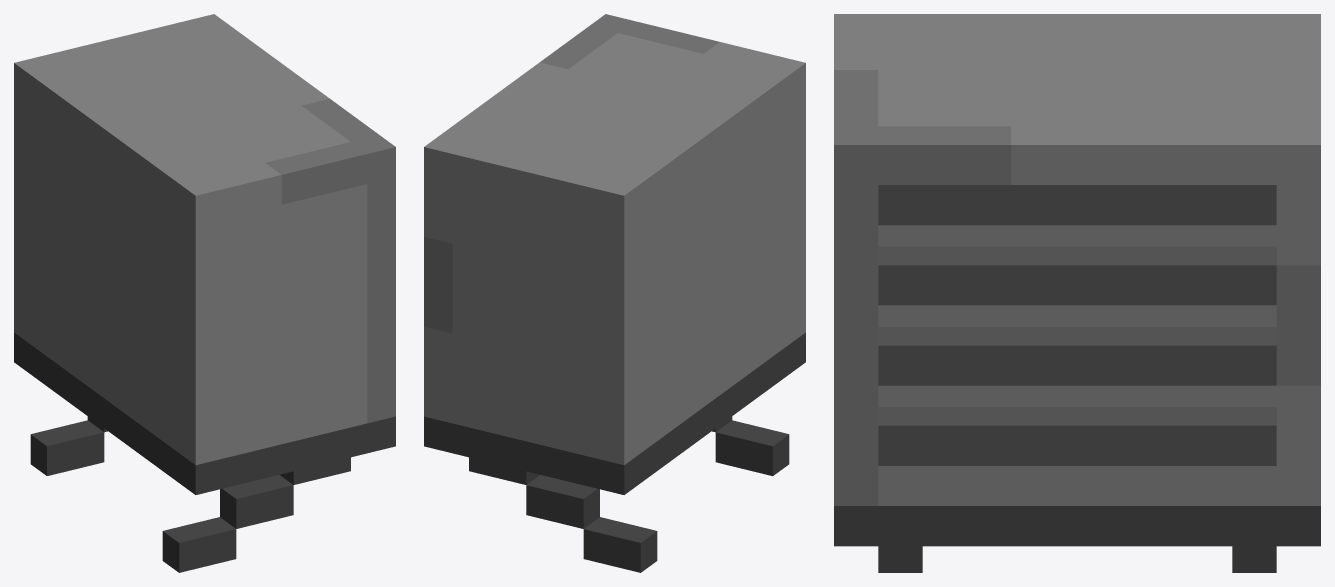
The model's file is condenserUnitTypeA.glb.
3 renders of one model, left to right at view 1: azimuth 30°, elevation 25°; view 2: azimuth 150°, elevation 25°; view 3: azimuth 270°, elevation 25°, orthographic. The views are drawn at different scales.
Parts seen in each view (by area): view 1: ObjObject; view 2: ObjObject; view 3: ObjObject.
Part boxes in pixels (x1,y1,x2,y2): ObjObject: (14,14,395,572); ObjObject: (424,14,805,572); ObjObject: (834,14,1320,572).
Bounding box in the file's own units: 0.7 × 1.3 × 1.1.
1 material, 1 textured.
